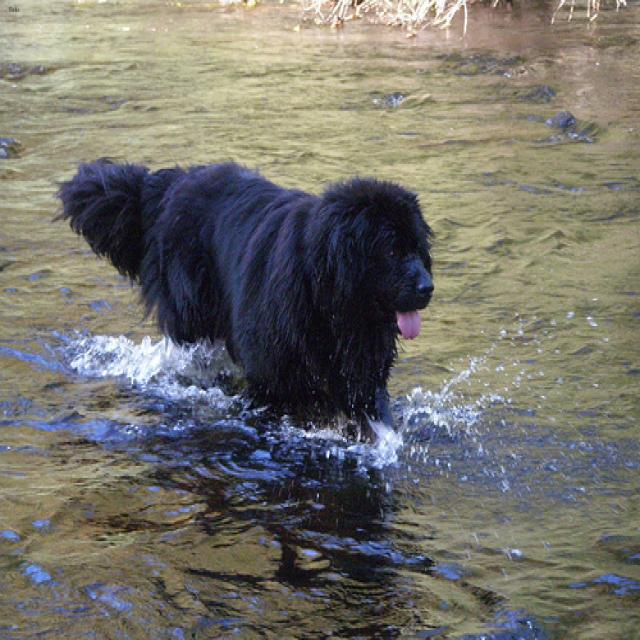dog-newfoundland: (42, 150, 443, 435)
